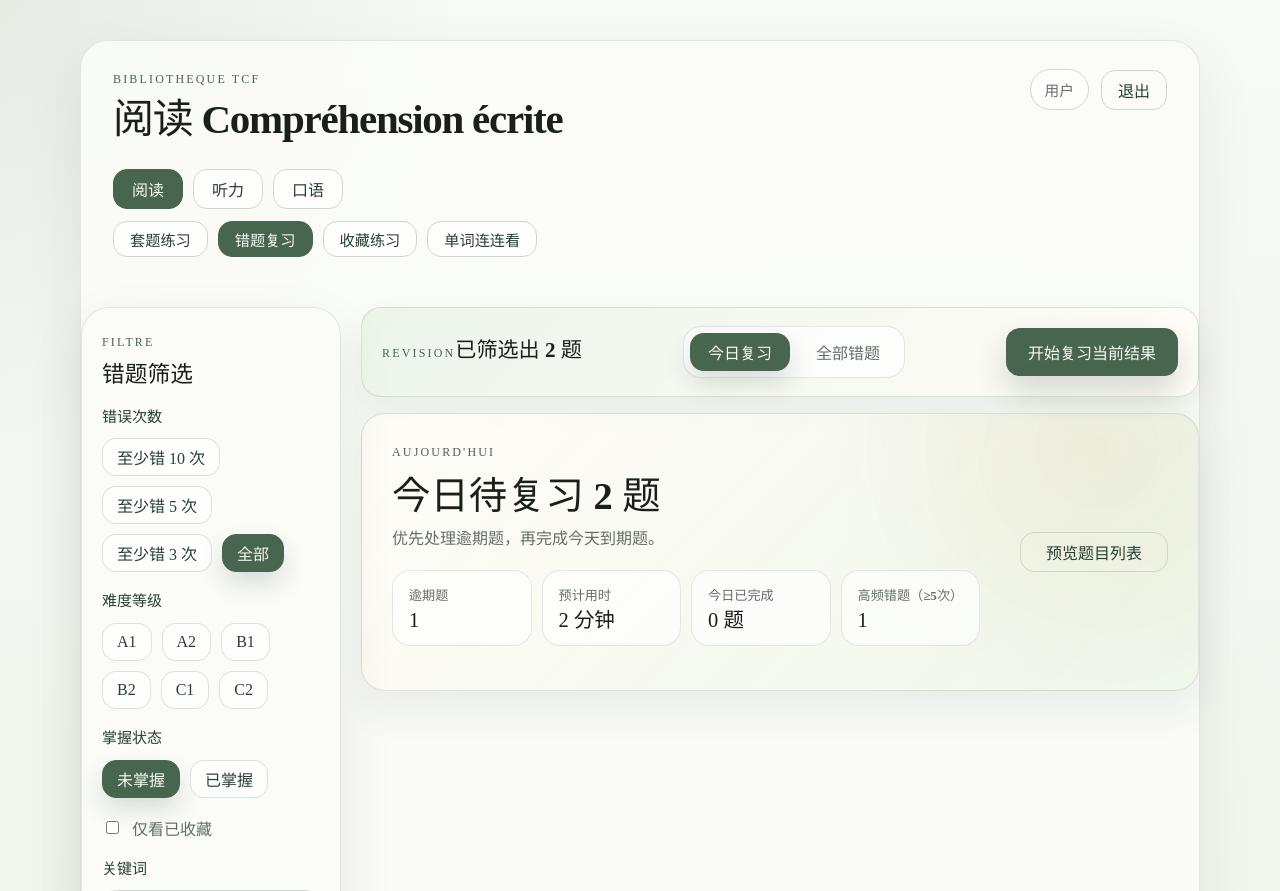
WrongQuestionPage › shows today review as a compact task before expanding the question list
The width and height of the screenshot is (1280, 891).
Expected: the heading "今日待复习 2 题" is shown, left=392, top=475, right=661, bottom=517
Expected: the text "优先处理逾期题，再完成今天到期题。" is shown, left=392, top=530, right=664, bottom=547
Click the button "预览题目列表": (1094, 552) left=1020, top=532, right=1168, bottom=572
(page scrolled)
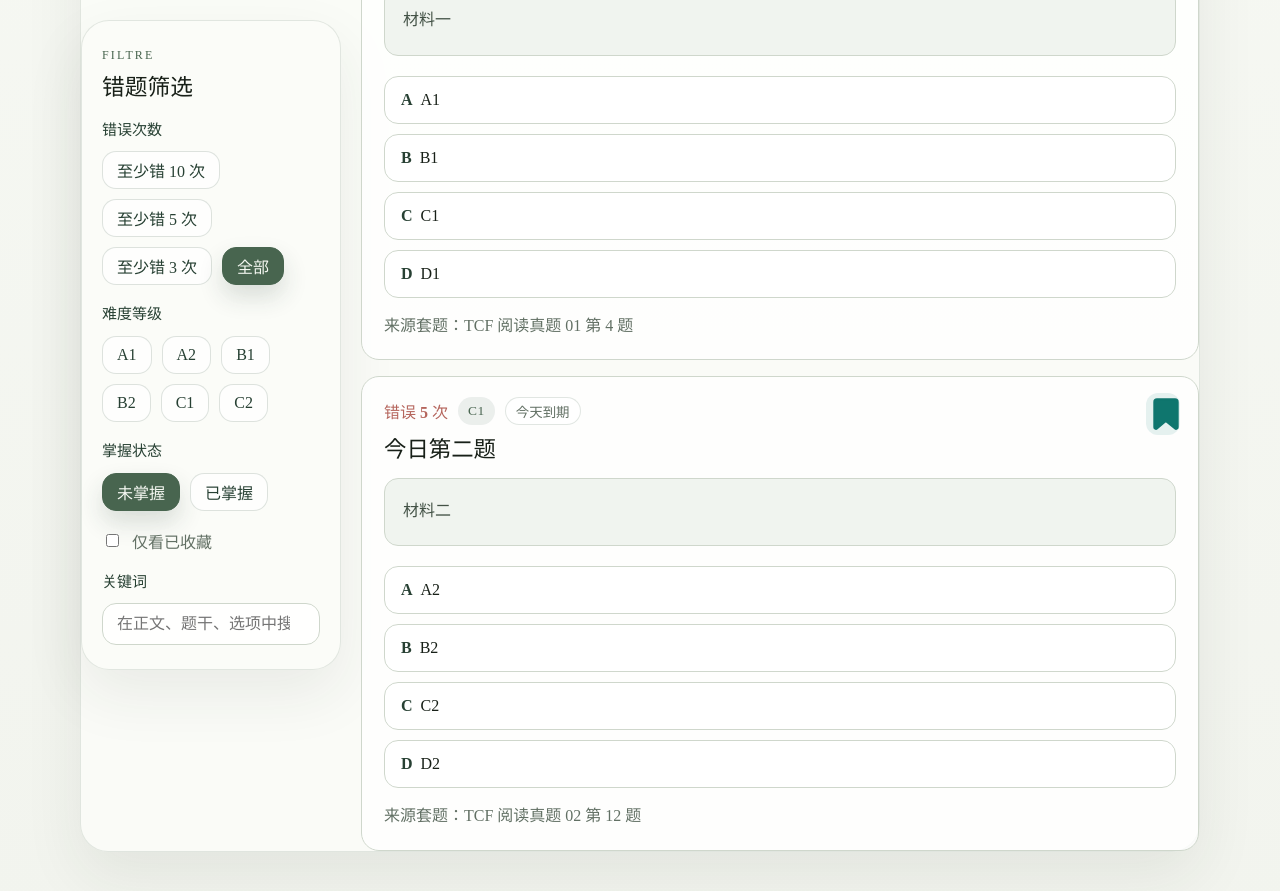
Expected: the heading "今日第二题" is shown, left=384, top=437, right=496, bottom=462
